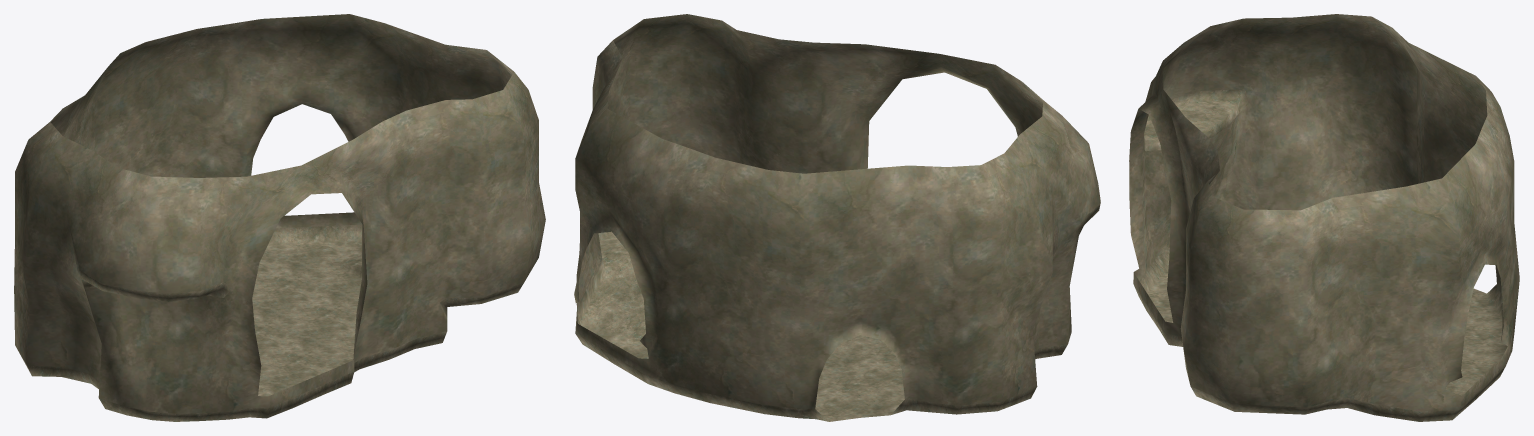
File: OVERHILL_A_01_CHIMNEY_CAVE_LOWER.fbx
The picture shows the model from 3 angles, left to right: view 1: azimuth 30°, elevation 25°; view 2: azimuth 150°, elevation 25°; view 3: azimuth 270°, elevation 25°; orthographic projection.
Parts seen in each view (by area): view 1: OVERHILL_A_01_CHIMNEY_CAVE_LOWER; view 2: OVERHILL_A_01_CHIMNEY_CAVE_LOWER; view 3: OVERHILL_A_01_CHIMNEY_CAVE_LOWER.
Part boxes in pixels (left/top/right/bottom): OVERHILL_A_01_CHIMNEY_CAVE_LOWER: left=14, top=14, right=545, bottom=421; OVERHILL_A_01_CHIMNEY_CAVE_LOWER: left=574, top=14, right=1100, bottom=421; OVERHILL_A_01_CHIMNEY_CAVE_LOWER: left=1129, top=14, right=1519, bottom=421.
Size of the model in its own units: 137132 by 64827 by 98740.
1 material, 1 textured.
